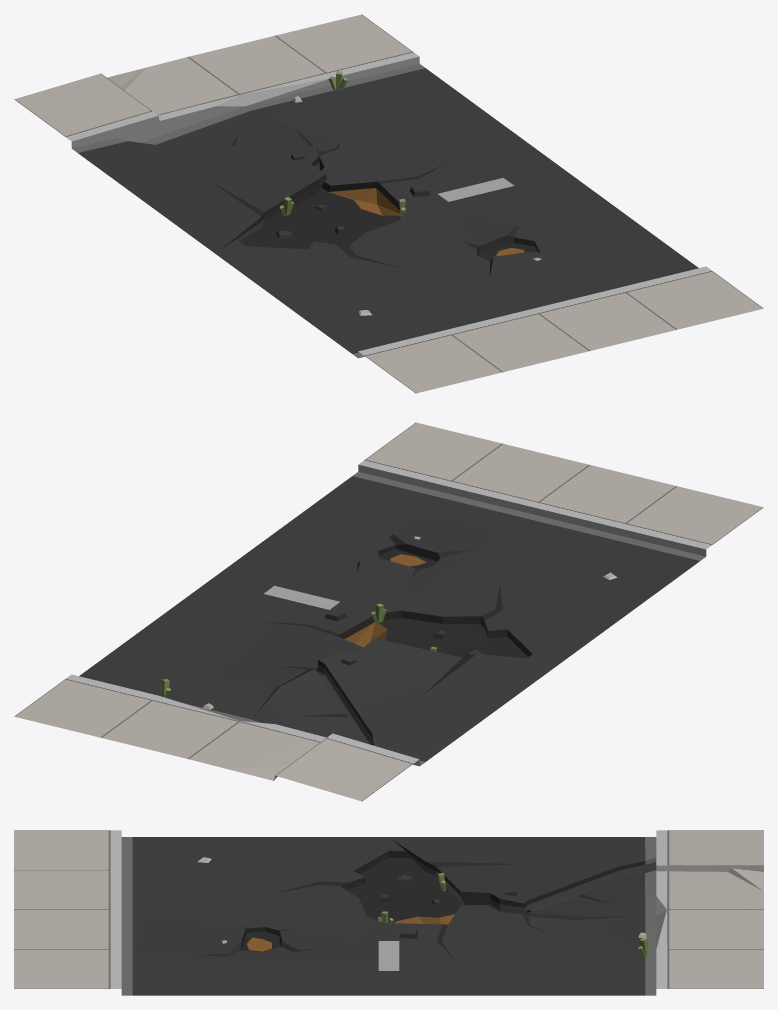
Rendered from SA_Env_RoadStraight_Damaged_01.gltf.
3 renders of one model, top to bottom at view 1: azimuth 30°, elevation 25°; view 2: azimuth 150°, elevation 25°; view 3: azimuth 270°, elevation 25°, orthographic. The views are drawn at different scales.
Visible parts, largest first — view 1: SA_Env_RoadStraight_Damaged_01; view 2: SA_Env_RoadStraight_Damaged_01; view 3: SA_Env_RoadStraight_Damaged_01.
Part boxes in pixels (box(x1,y1,x2,y2)): SA_Env_RoadStraight_Damaged_01: box(14, 14, 763, 393); SA_Env_RoadStraight_Damaged_01: box(14, 422, 763, 801); SA_Env_RoadStraight_Damaged_01: box(14, 830, 763, 995).
Size of the model in its own units: 10 by 0.9511 by 20.
1 material, 1 textured.
